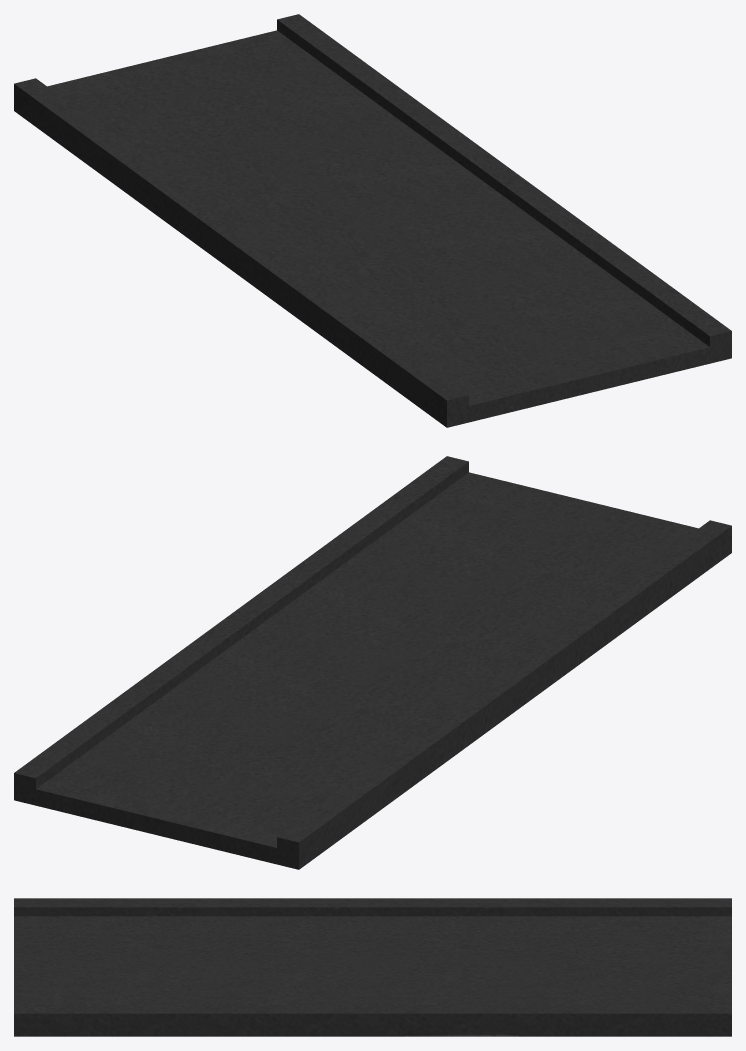
Rendered from Map_Access_Ramp_Straight.fbx.
3 views of the same model, one above another, from view 1: azimuth 30°, elevation 25°; view 2: azimuth 150°, elevation 25°; view 3: azimuth 270°, elevation 25° (orthographic). The views are drawn at different scales.
Parts seen in each view (by area): view 1: Map_Access_Ramp_Straight; view 2: Map_Access_Ramp_Straight; view 3: Map_Access_Ramp_Straight.
Boxes of the visible parts, x1=… form: Map_Access_Ramp_Straight: x1=14, y1=14, x2=731, y2=427; Map_Access_Ramp_Straight: x1=14, y1=456, x2=731, y2=869; Map_Access_Ramp_Straight: x1=14, y1=898, x2=731, y2=1036.
Size of the model in its own units: 241 by 22.09 by 634.
1 material, 1 textured.
